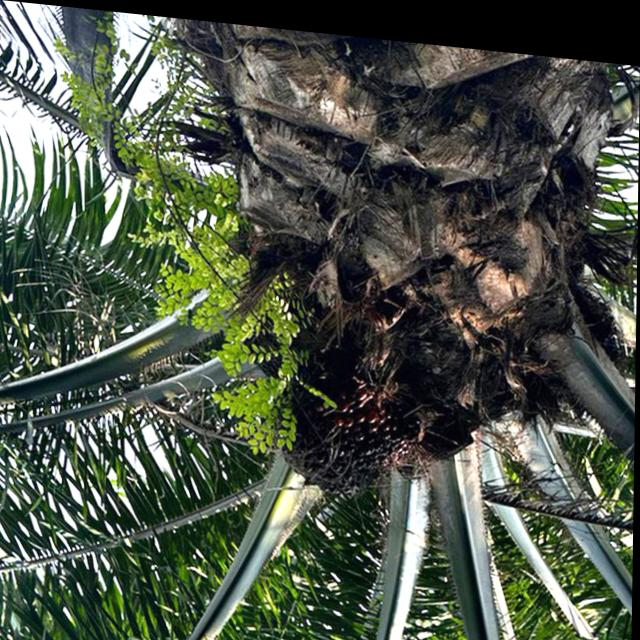ripe: (273, 338, 440, 503)
